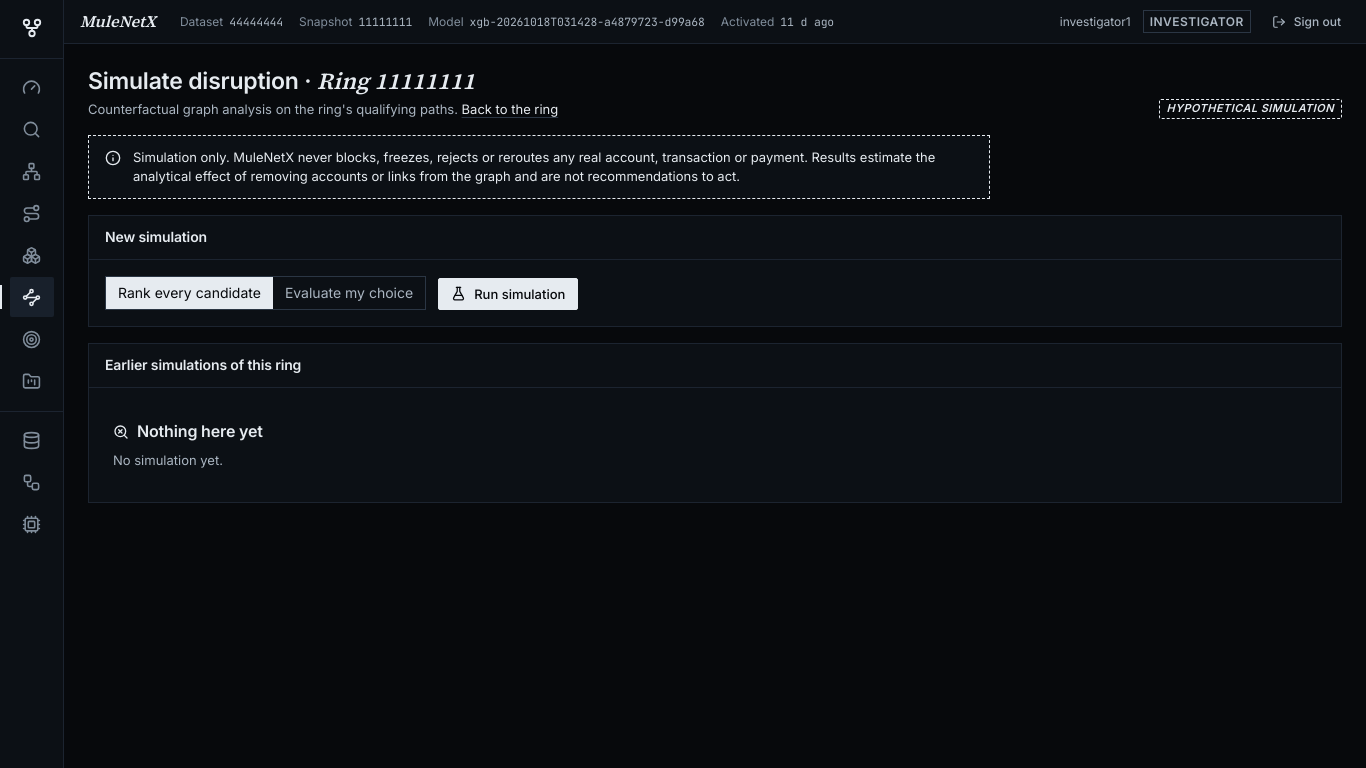
Test: intervention simulation (T39) › explains the per-user limit and invalid targets
Step 1. Click the button "Run simulation" → (508, 294), box [438,278,578,310]
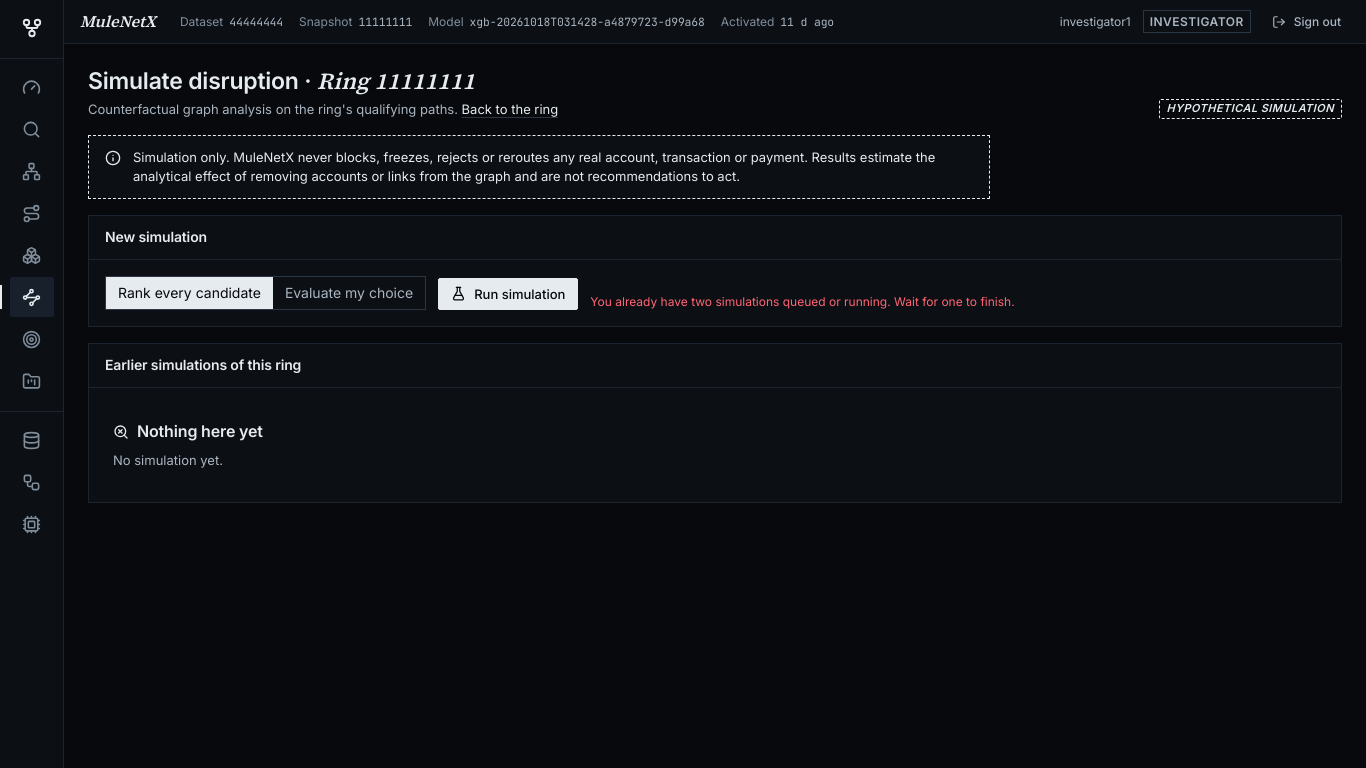
Now the message "You already have two simulations queued or running. Wait for one to finish." is shown, box [590,293,1015,310]
